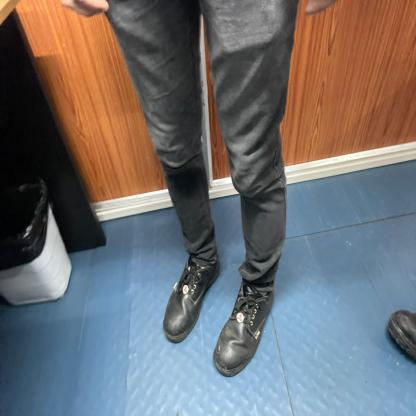bota: (212, 279, 276, 378), (162, 252, 220, 344)
